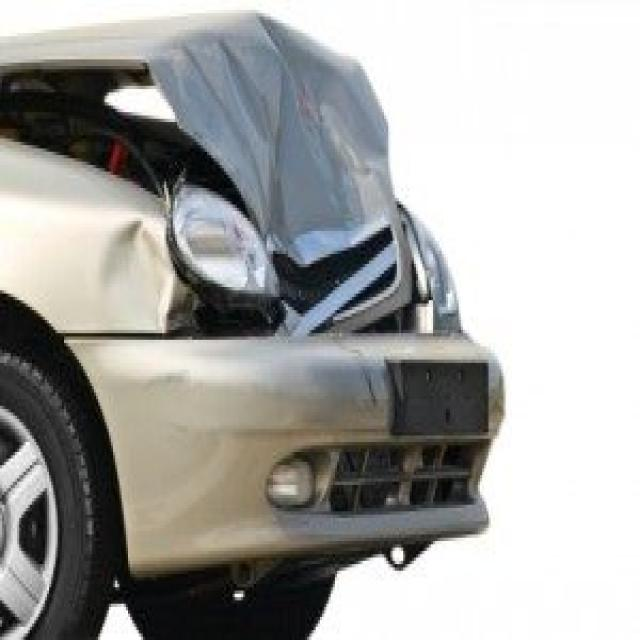crush: (0, 13, 438, 339)
